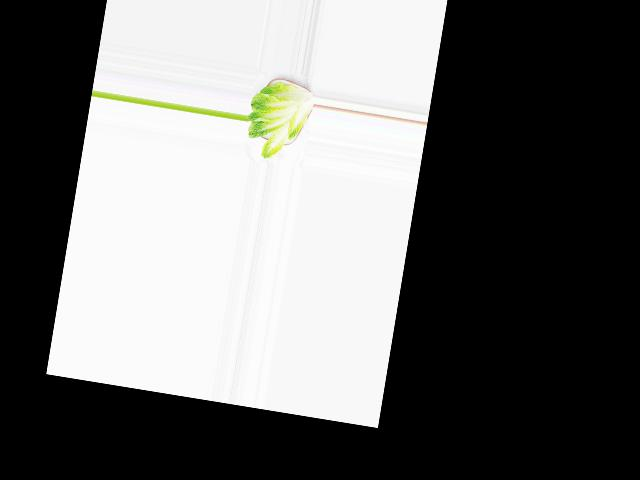lettuce: (240, 73, 315, 165)
